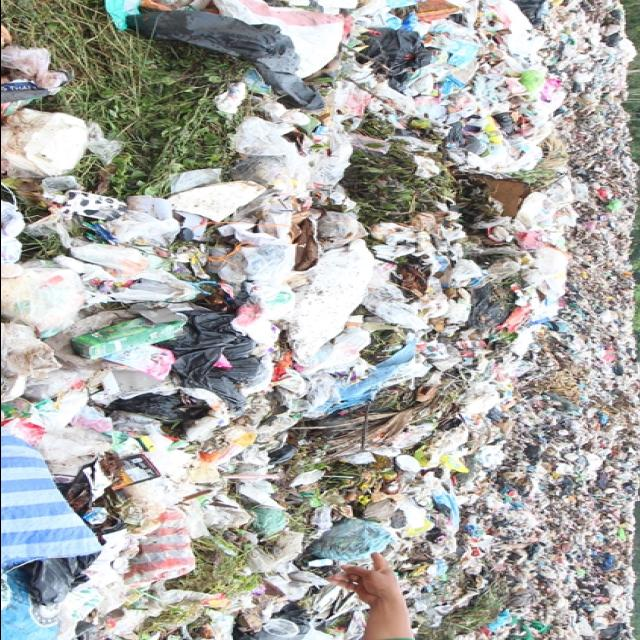-: (56, 7, 640, 596)
